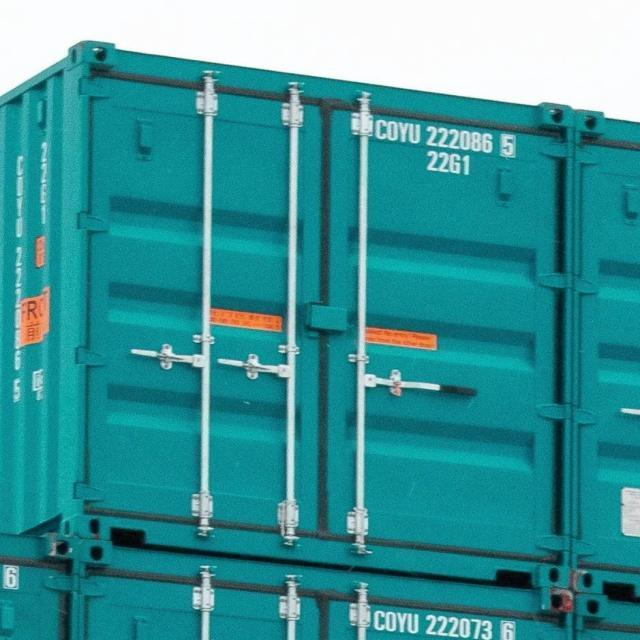ISO: (428, 148, 472, 176)
container_number: (377, 118, 530, 154)
